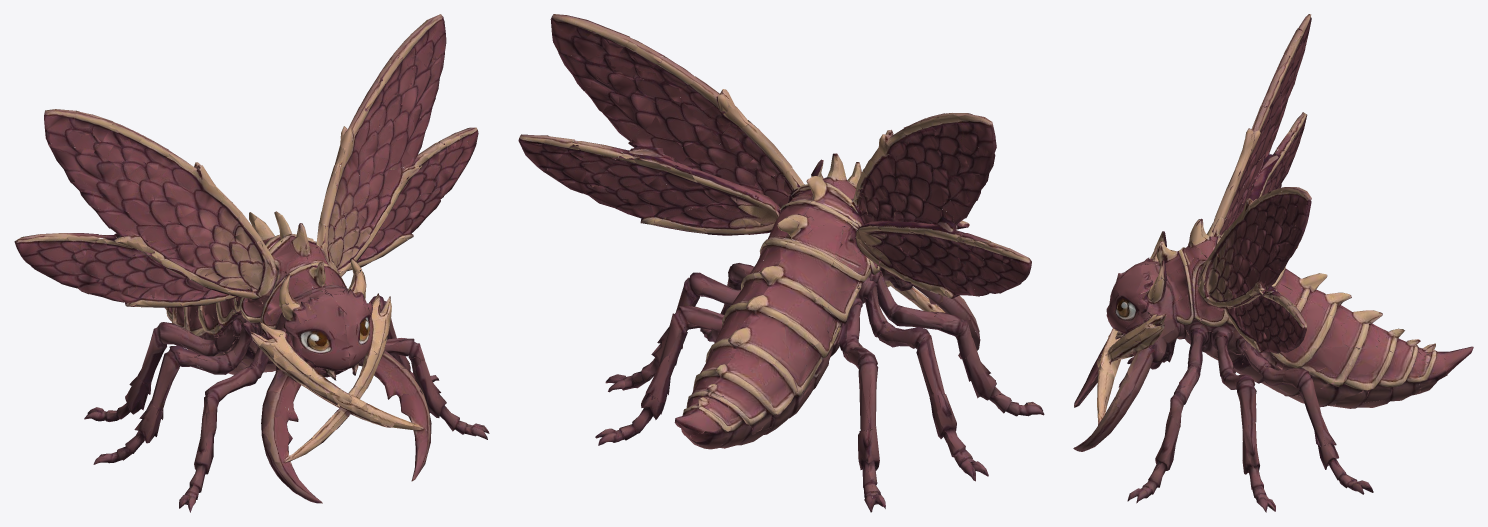
3 views of the same model, side by side, from view 1: azimuth 30°, elevation 25°; view 2: azimuth 150°, elevation 25°; view 3: azimuth 270°, elevation 25° (orthographic). The views are drawn at different scales.
Parts seen in each view (by area): view 1: Mesh_0; view 2: Mesh_0; view 3: Mesh_0.
Part boxes in pixels (x1,y1,x2,y2): Mesh_0: (14,14,489,512); Mesh_0: (518,14,1044,512); Mesh_0: (1073,14,1473,512).
Size of the model in its own units: 1.9 by 1.37 by 1.5.
1 material, 1 textured.
